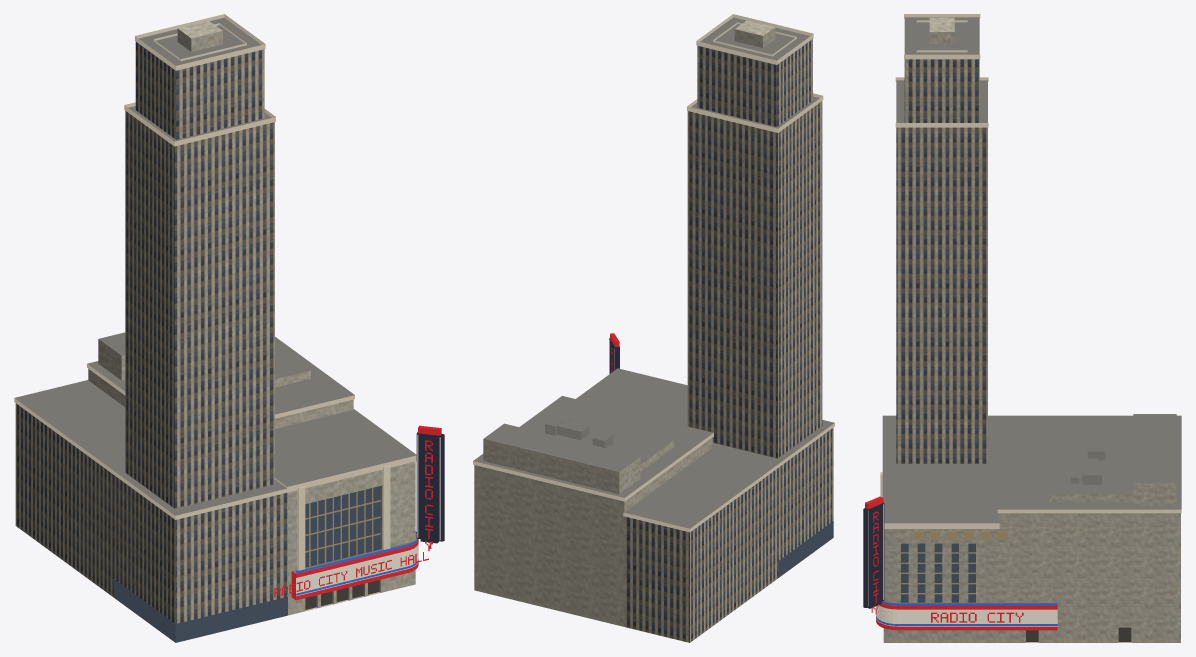
File: radio_city_music_hall.glb
3 renders of one model, left to right at view 1: azimuth 30°, elevation 25°; view 2: azimuth 150°, elevation 25°; view 3: azimuth 270°, elevation 25°, orthographic. The views are drawn at different scales.
Parts seen in each view (by area): view 1: radio_city_music_hall; view 2: radio_city_music_hall; view 3: radio_city_music_hall.
Part boxes in pixels (x1,y1,x2,y2): radio_city_music_hall: [14, 14, 444, 642]; radio_city_music_hall: [473, 14, 834, 642]; radio_city_music_hall: [863, 14, 1181, 642].
Size of the model in its own units: 66.04 by 140 by 75.55.
3 materials, 3 textured.
